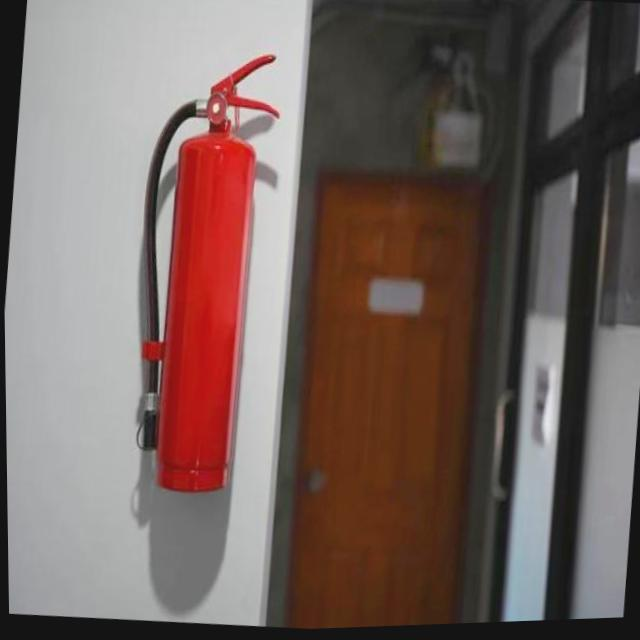FireExtinguisher: (111, 37, 291, 507)
